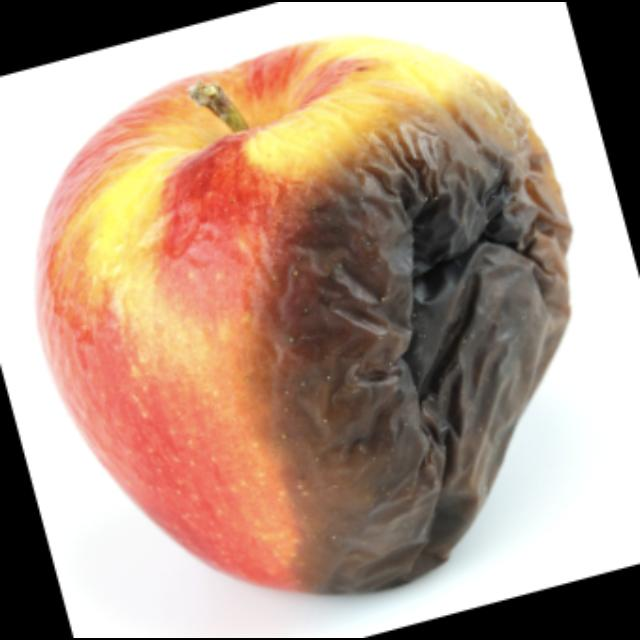Apel Tidak Segar: (34, 44, 576, 606)
